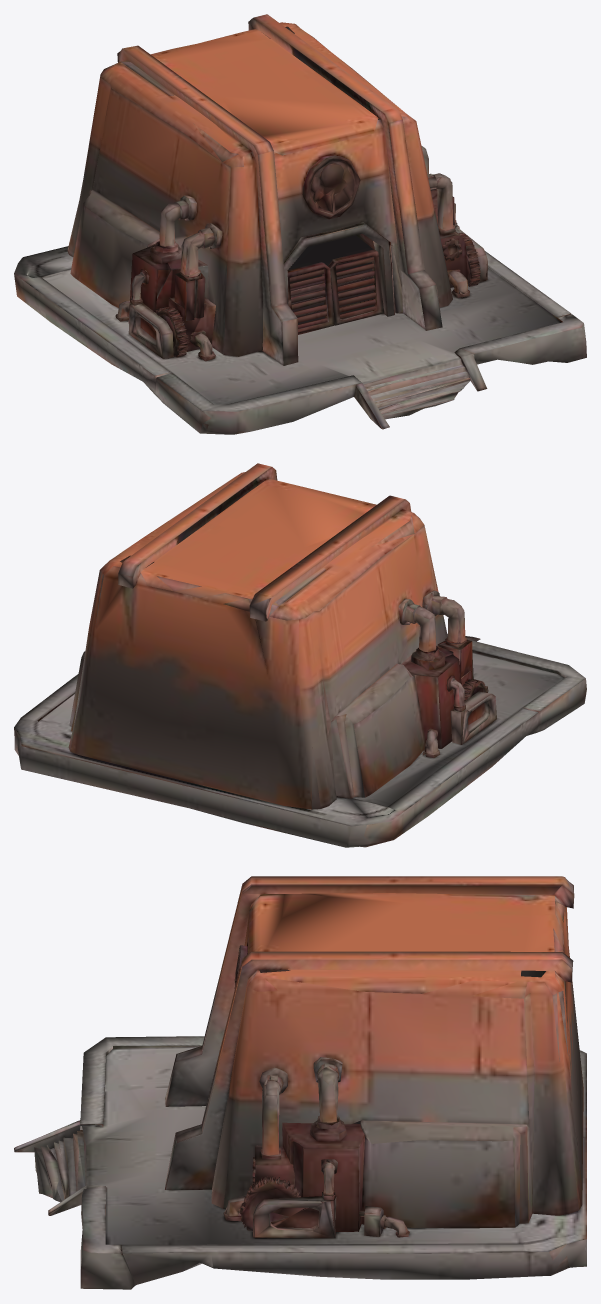
File: station.glb
3 views of the same model, one above another, from view 1: azimuth 30°, elevation 25°; view 2: azimuth 150°, elevation 25°; view 3: azimuth 270°, elevation 25° (orthographic). The views are drawn at different scales.
Size of the model in its own units: 0.8575 by 0.4859 by 0.9556.
Materials: 1 (1 with a texture image).
